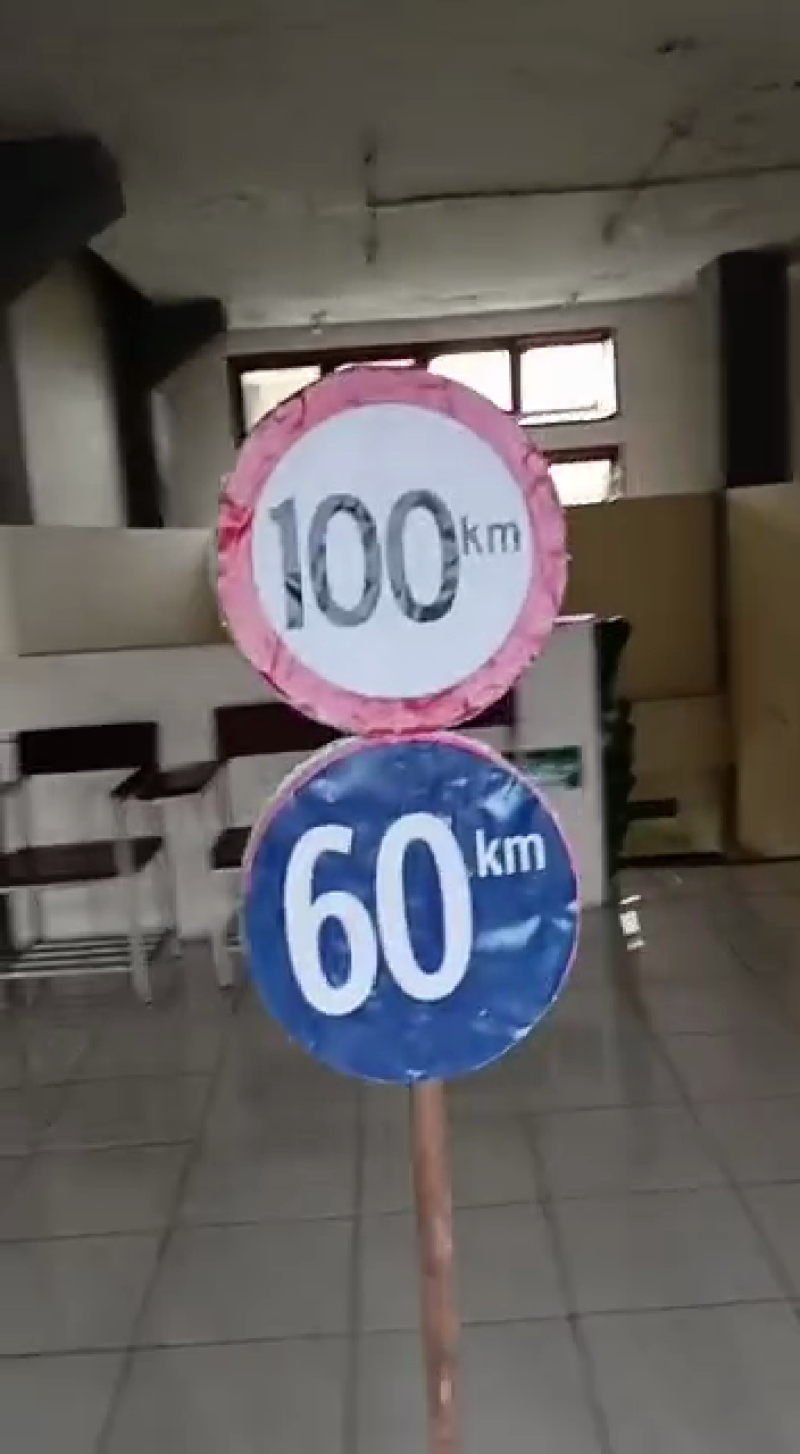batas maksimal 100kmperjam minimal 60kmperjam: (210, 353, 589, 1100)
